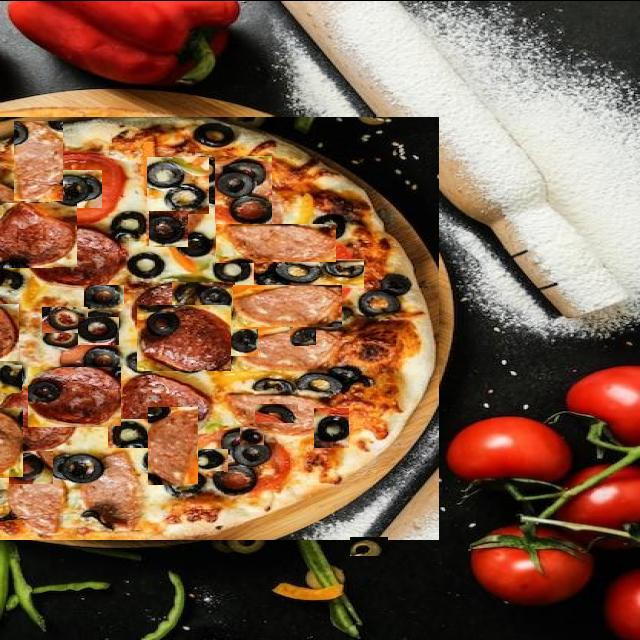olive: (215, 155, 272, 229), (147, 156, 209, 212), (254, 258, 364, 286), (358, 337, 408, 380), (49, 169, 102, 206), (172, 281, 235, 309), (9, 450, 53, 482), (149, 210, 188, 246), (314, 407, 349, 446), (211, 371, 254, 401), (170, 396, 215, 423), (108, 418, 151, 446), (181, 469, 224, 497), (53, 262, 98, 288), (42, 306, 88, 331), (123, 377, 165, 404), (78, 316, 119, 343), (185, 309, 226, 334), (194, 508, 235, 532), (223, 328, 260, 354), (84, 282, 124, 306), (260, 340, 294, 368), (21, 387, 57, 413), (222, 530, 262, 552), (309, 326, 350, 347), (78, 122, 116, 144), (120, 280, 157, 302), (256, 403, 300, 421), (350, 534, 388, 554), (0, 274, 29, 298), (198, 448, 228, 470), (0, 188, 29, 210), (0, 364, 22, 391), (290, 326, 316, 344), (240, 426, 264, 444)
pepperoni: (137, 302, 231, 368), (119, 219, 214, 279), (28, 366, 121, 425), (0, 202, 77, 266), (210, 398, 278, 470), (216, 223, 336, 261), (233, 284, 342, 325), (87, 126, 138, 204), (14, 120, 63, 200), (148, 406, 198, 483), (0, 407, 23, 476), (0, 303, 19, 359)
pizza: (0, 114, 439, 538)
